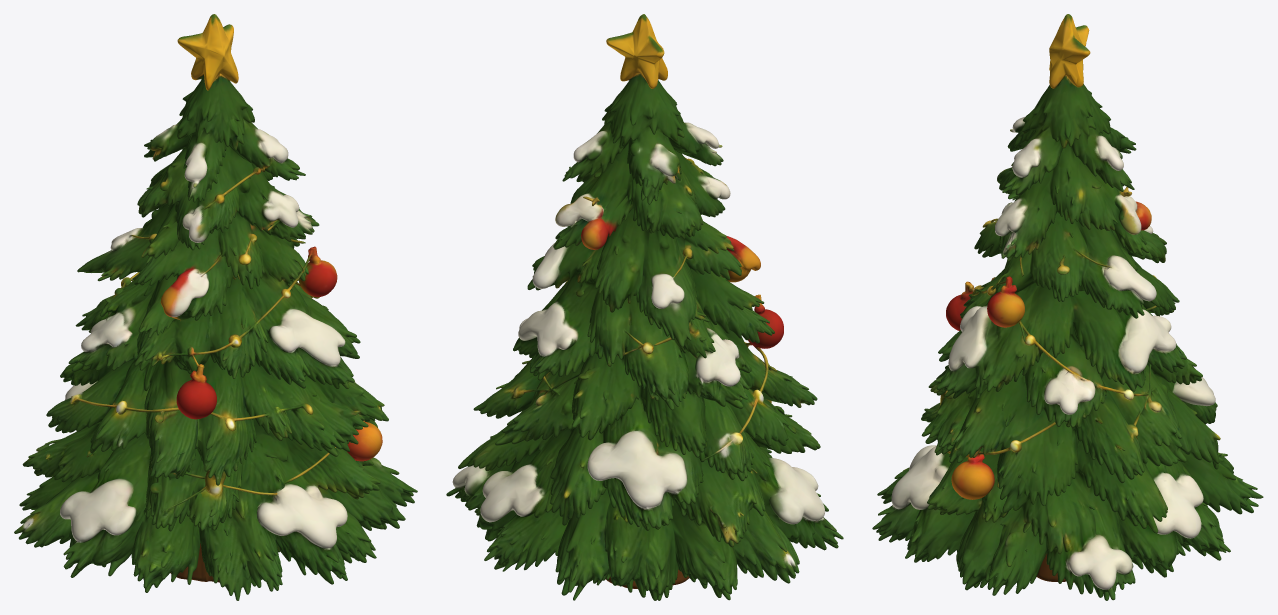
The model's file is wish-tree-web.glb.
The picture shows the model from 3 angles, left to right: view 1: azimuth 30°, elevation 25°; view 2: azimuth 150°, elevation 25°; view 3: azimuth 270°, elevation 25°; orthographic projection.
Visible parts, largest first — view 1: tripo_node_596d902d-db93-4dd2-823b-0190cee6baf6; view 2: tripo_node_596d902d-db93-4dd2-823b-0190cee6baf6; view 3: tripo_node_596d902d-db93-4dd2-823b-0190cee6baf6.
Part boxes in pixels (<box>): tripo_node_596d902d-db93-4dd2-823b-0190cee6baf6: <box>14,14,417,600</box>; tripo_node_596d902d-db93-4dd2-823b-0190cee6baf6: <box>446,14,843,600</box>; tripo_node_596d902d-db93-4dd2-823b-0190cee6baf6: <box>872,14,1263,600</box>.
Size of the model in its own units: 0.6496 by 0.9781 by 0.6319.
1 material, 1 textured.
